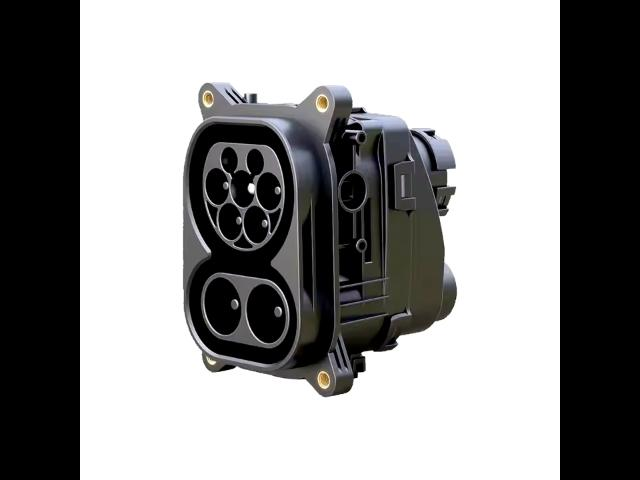inlet: (203, 143, 285, 252)
inlet-above-left: (220, 147, 238, 173)
inlet-above-right: (246, 149, 264, 176)
inlet-below-left: (218, 203, 242, 240)
inlet-below-right: (244, 206, 268, 244)
inlet-circle: (230, 170, 255, 208)
inlet-circle-left: (205, 168, 228, 205)
inlet-circle-right: (256, 172, 281, 211)
inlet-minus: (246, 283, 286, 343)
inlet-plus: (204, 277, 242, 335)
